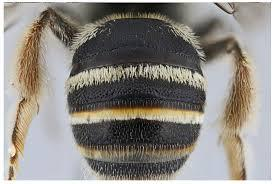Seladonia: (62, 0, 235, 179)
